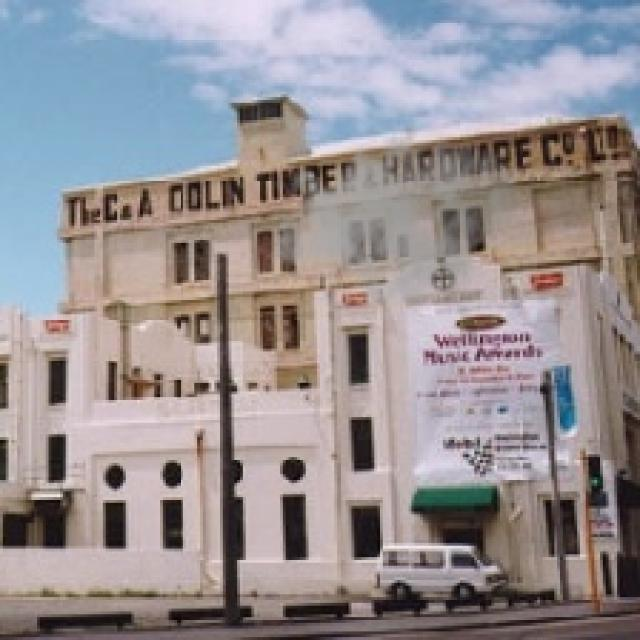smoke: (271, 114, 523, 317)
